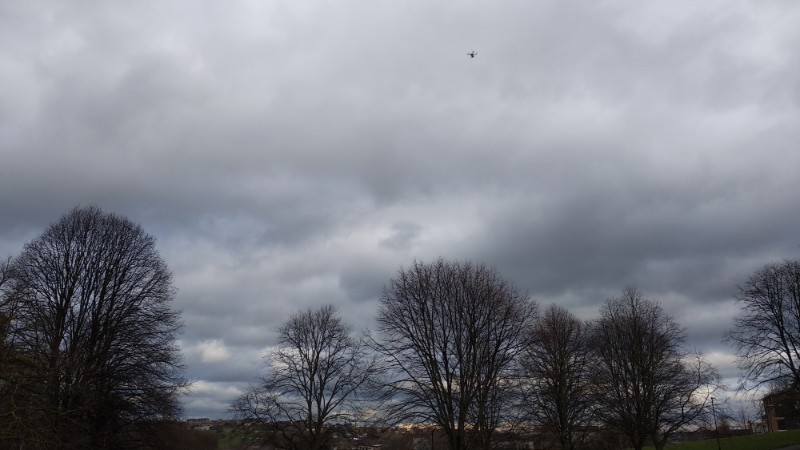drone: (466, 49, 478, 59)
